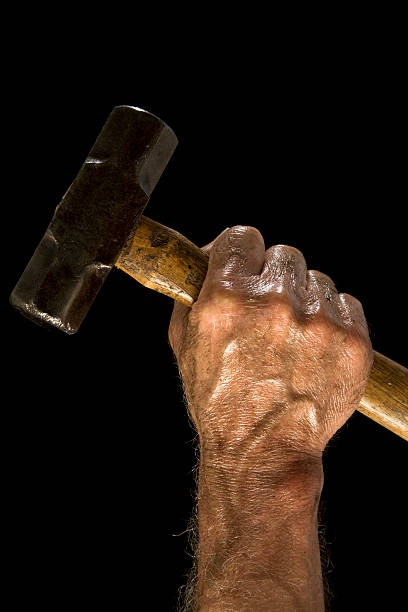hammer: (9, 87, 407, 425)
